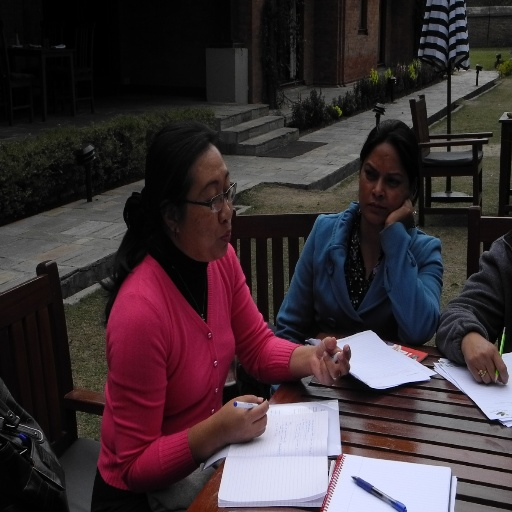hand: (214, 392, 270, 447), (296, 346, 361, 391), (459, 332, 510, 384), (383, 195, 416, 231)
